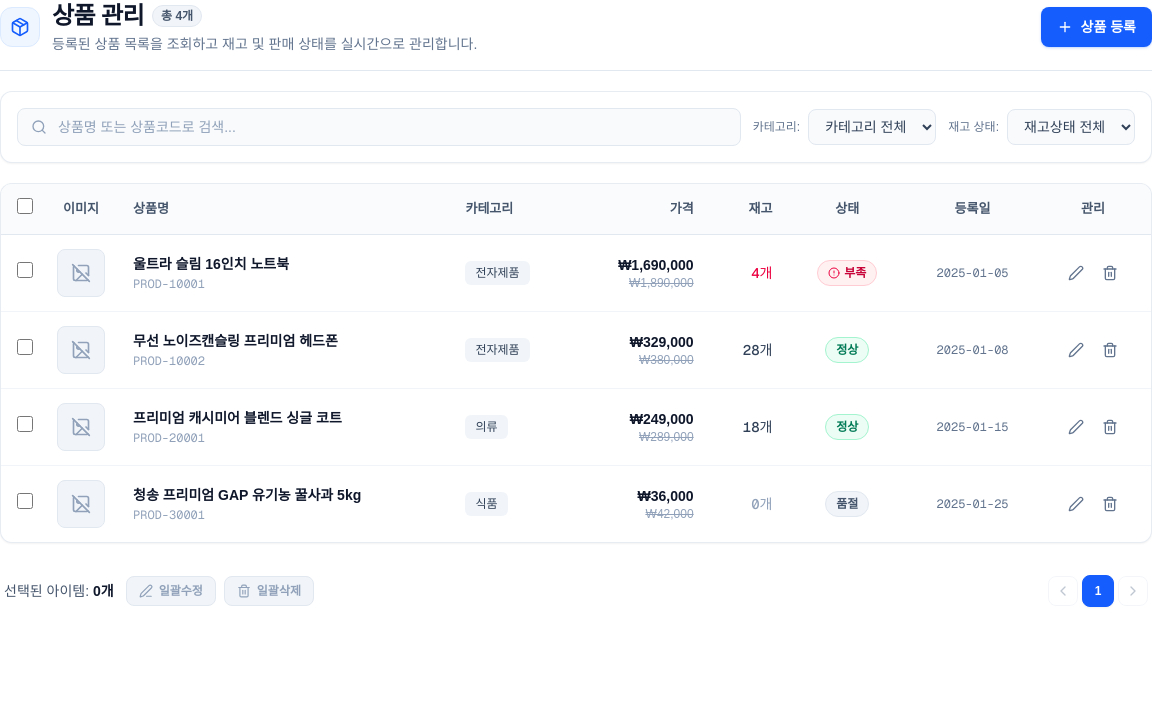
Test: ProductView Component (Integration/Presentation Test) › 기존 상품의 수정 버튼 클릭 시 모달이 열리고 정보 수정이 정상 반영된다
This screenshot has width=1152, height=720.
Click the button named "울트라 슬림 16인치 노트북 수정": (1076, 272) [1062, 258, 1090, 286]
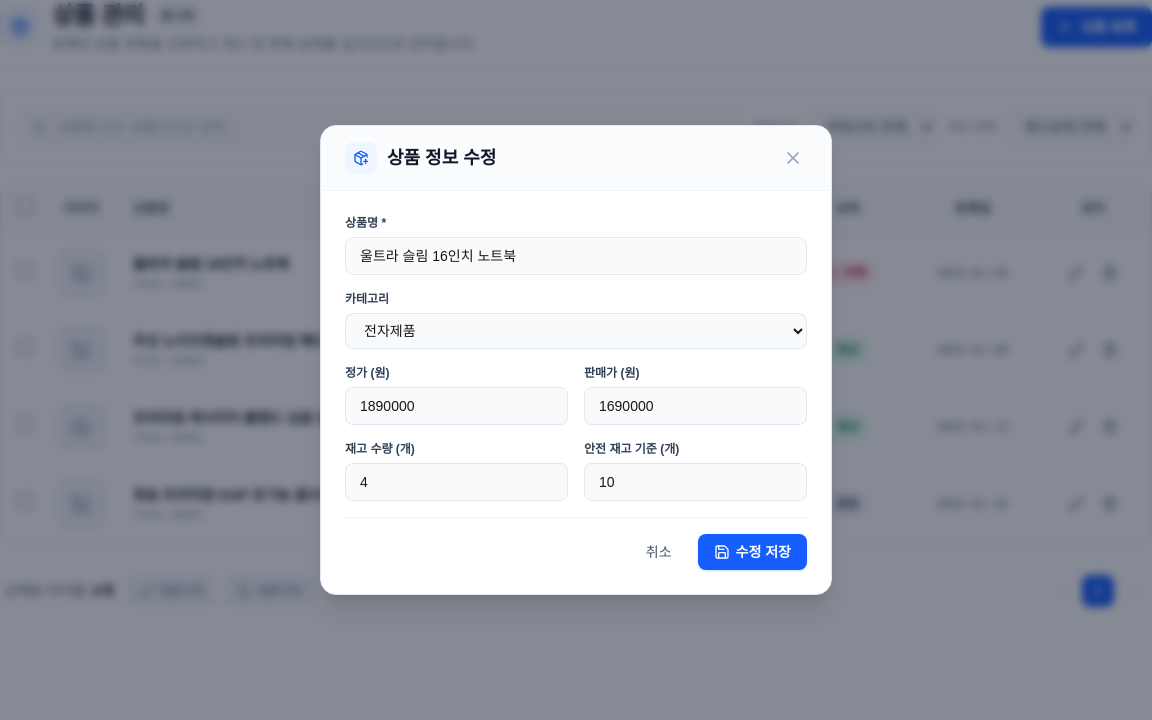
Now the heading "상품 정보 수정" is shown, box [387, 144, 496, 172]
Replace the text in the field showing "울트라 슬림 16인치 노트북" with "울트라 슬림 16인치 노트북 프로": (576, 256) [345, 237, 807, 275]
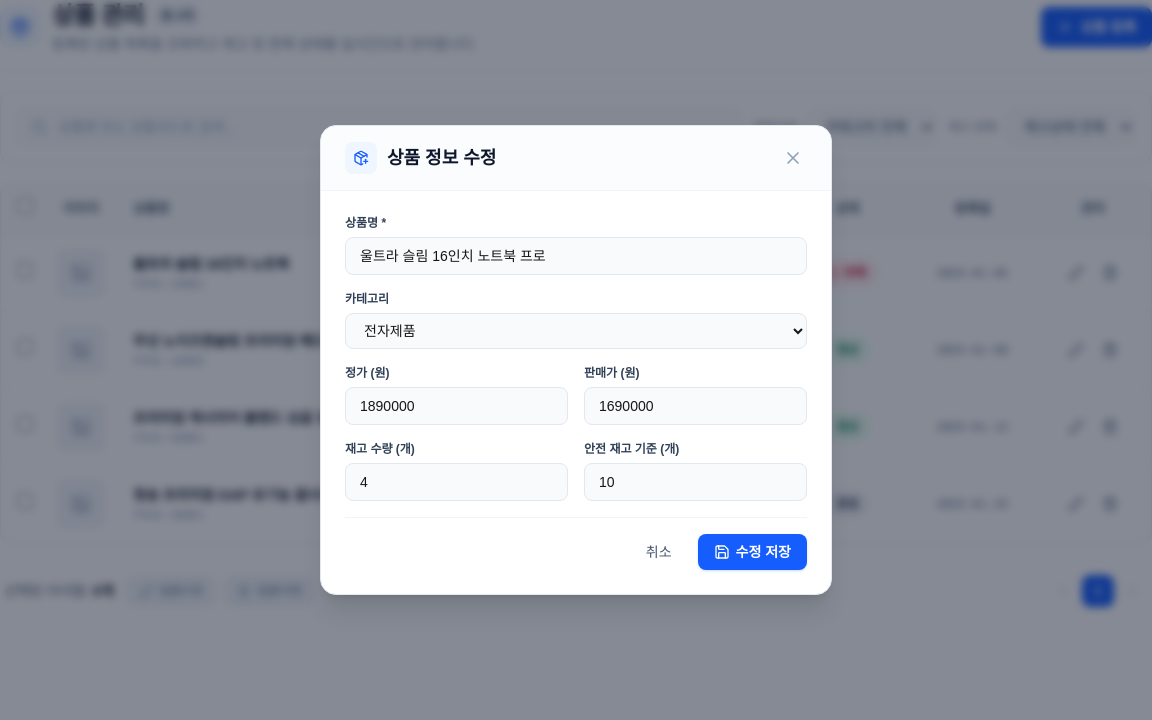
Click the button "수정 저장": (752, 552) [698, 534, 807, 570]
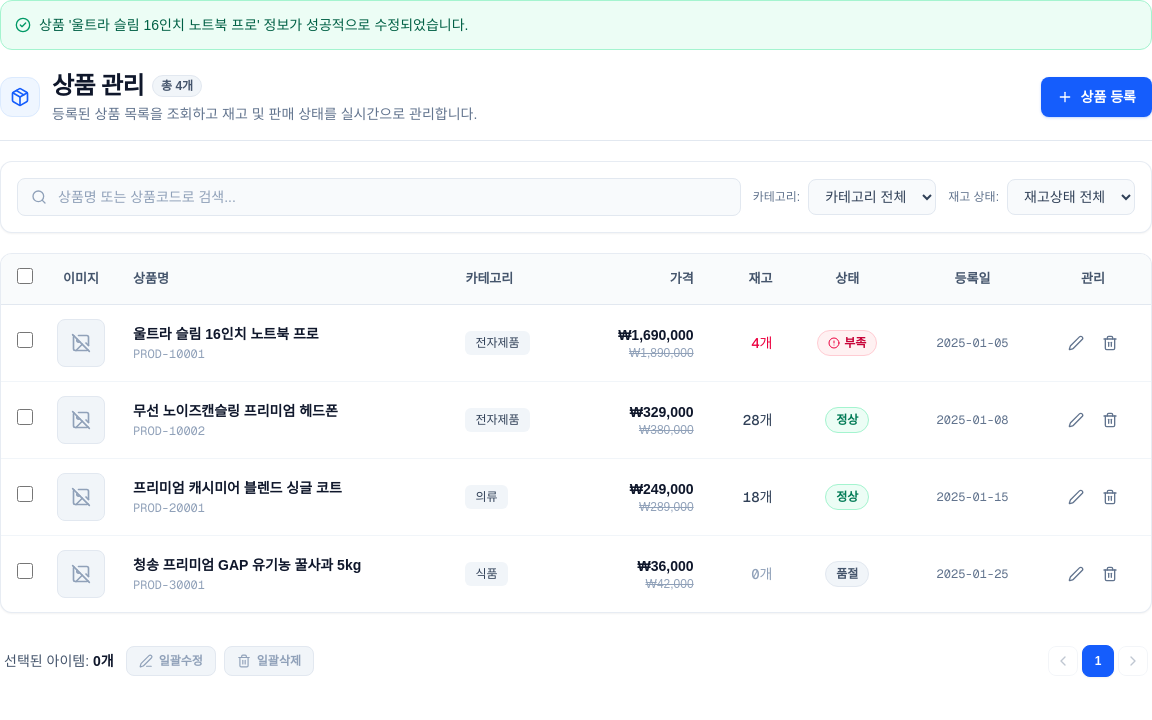
Now the text "울트라 슬림 16인치 노트북 프로" is shown, box [133, 326, 319, 342]
